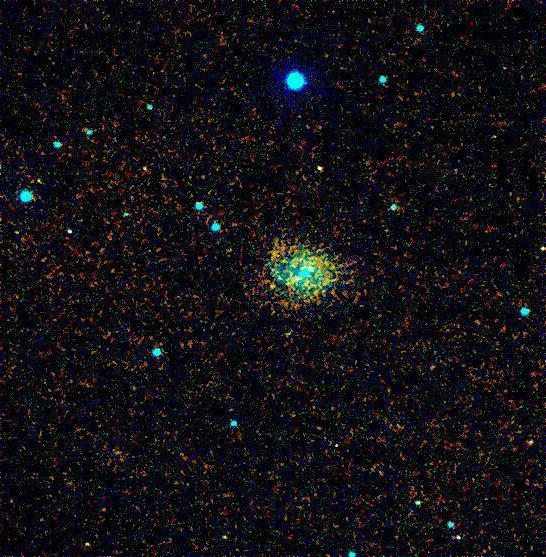star: (256, 271, 286, 301)
